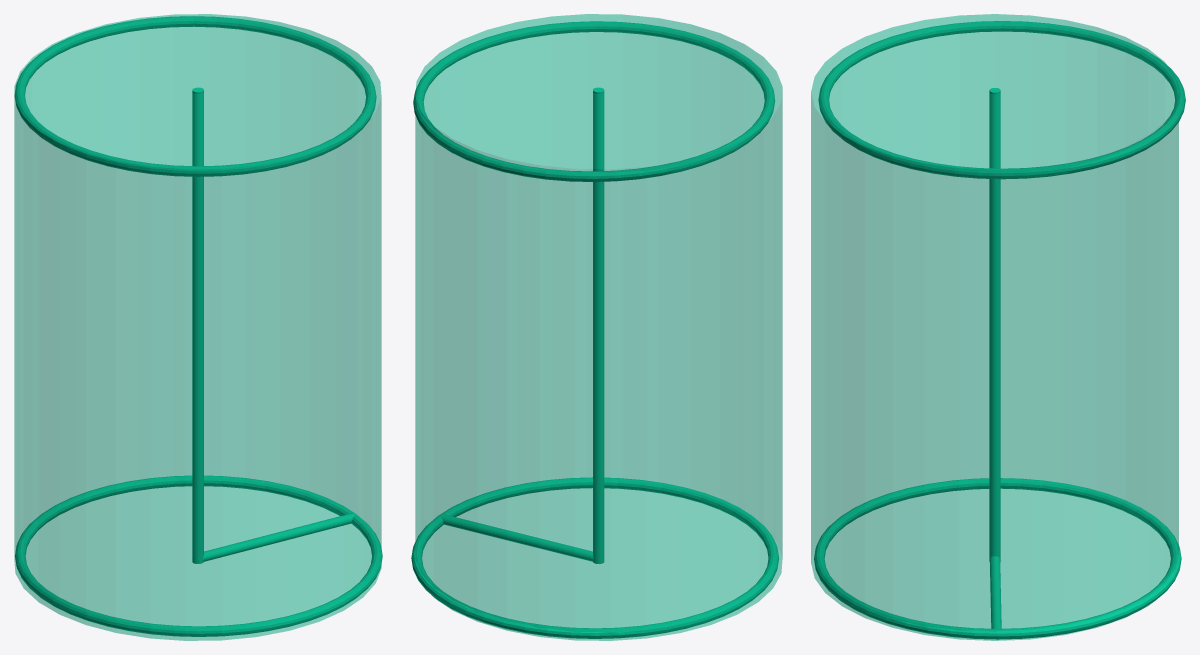
File: geotabung.fbx
3 views of the same model, side by side, from view 1: azimuth 30°, elevation 25°; view 2: azimuth 150°, elevation 25°; view 3: azimuth 270°, elevation 25° (orthographic).
Visible parts, largest first — view 1: Cylinder, Torus.001, Torus.002, Cylinder.001, Cylinder.002; view 2: Cylinder, Torus.001, Torus.002, Cylinder.001, Cylinder.002; view 3: Cylinder, Torus.001, Torus.002, Cylinder.001, Cylinder.002.
Part boxes in pixels (box(x1,y1,x2,y2)): Cylinder: box(14, 14, 381, 640); Torus.001: box(14, 16, 376, 176); Torus.002: box(15, 475, 382, 636); Cylinder.001: box(192, 87, 203, 563); Cylinder.002: box(198, 513, 354, 561); Cylinder: box(415, 14, 782, 640); Torus.001: box(413, 21, 775, 181); Torus.002: box(411, 477, 779, 638); Cylinder.001: box(593, 87, 604, 563); Cylinder.002: box(440, 514, 598, 561); Cylinder: box(811, 14, 1178, 640); Torus.001: box(818, 21, 1185, 179); Torus.002: box(814, 478, 1181, 639); Cylinder.001: box(989, 88, 1000, 562); Cylinder.002: box(989, 556, 1001, 628).
Bounding box in the file's own units: 201 × 284 × 204.
